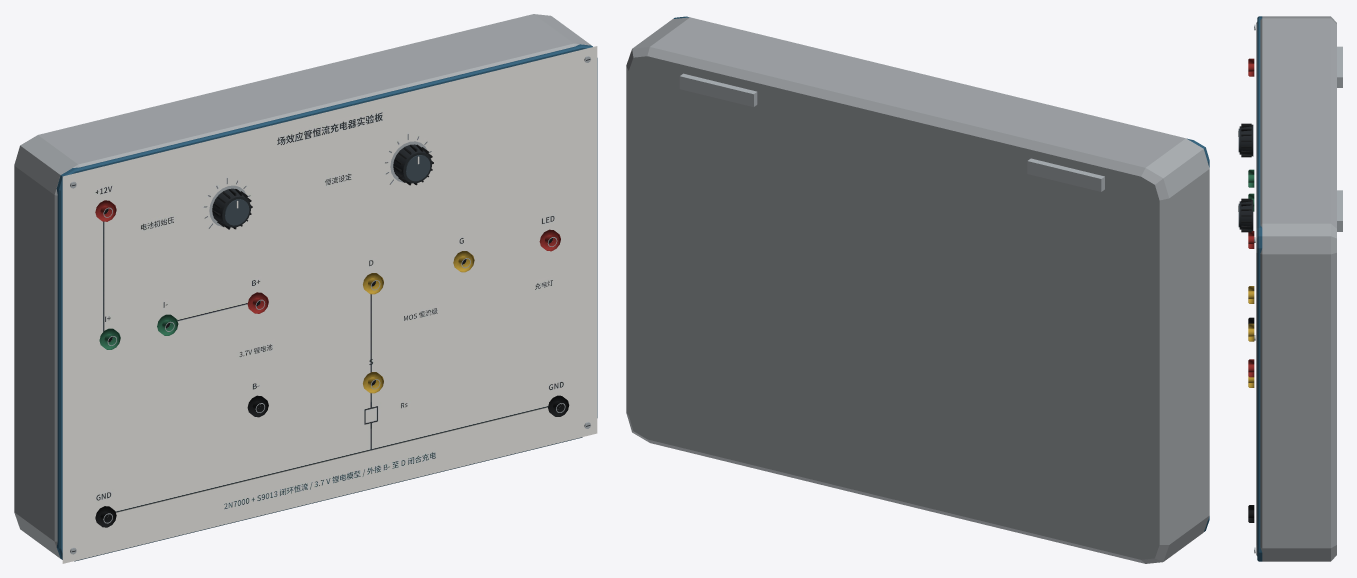
File: module.glb
3 views of the same model, side by side, from view 1: azimuth 30°, elevation 25°; view 2: azimuth 150°, elevation 25°; view 3: azimuth 270°, elevation 25° (orthographic). The views are drawn at different scales.
Parts seen in each view (by area): view 1: PANEL_silkscreen, STATIC_paint, MOVING_I_SET_paint, MOVING_BAT_INIT_paint, STATIC_metal; view 2: STATIC_paint, STATIC_metal; view 3: STATIC_paint, STATIC_metal, MOVING_BAT_INIT_paint, MOVING_I_SET_paint.
Part boxes in pixels (x1=…): PANEL_silkscreen: x1=62, y1=46, x2=597, y2=563; STATIC_paint: x1=14, y1=14, x2=597, y2=561; MOVING_I_SET_paint: x1=393, y1=144, x2=433, y2=185; MOVING_BAT_INIT_paint: x1=212, y1=188, x2=252, y2=229; STATIC_metal: x1=70, y1=56, x2=590, y2=554; STATIC_paint: x1=626, y1=16, x2=1209, y2=563; STATIC_metal: x1=679, y1=73, x2=1104, y2=191; STATIC_paint: x1=1248, y1=16, x2=1336, y2=561; STATIC_metal: x1=1254, y1=24, x2=1342, y2=553; MOVING_BAT_INIT_paint: x1=1238, y1=123, x2=1253, y2=157; MOVING_I_SET_paint: x1=1238, y1=198, x2=1253, y2=232.
Size of the model in its own units: 0.264 by 0.184 by 0.0521.
Materials: 5 (1 with a texture image).
